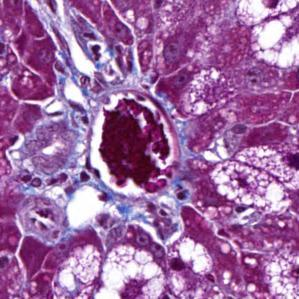ballooning: (209, 158, 289, 210), (99, 243, 166, 296), (55, 238, 104, 296), (250, 15, 297, 70), (234, 3, 296, 29)
